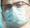with_mask: (2, 1, 30, 28)
